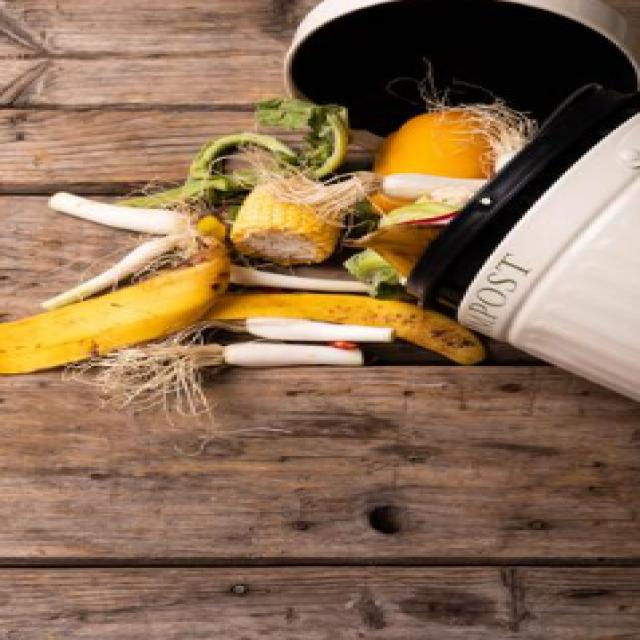paper: (0, 262, 227, 374), (229, 160, 346, 263)
